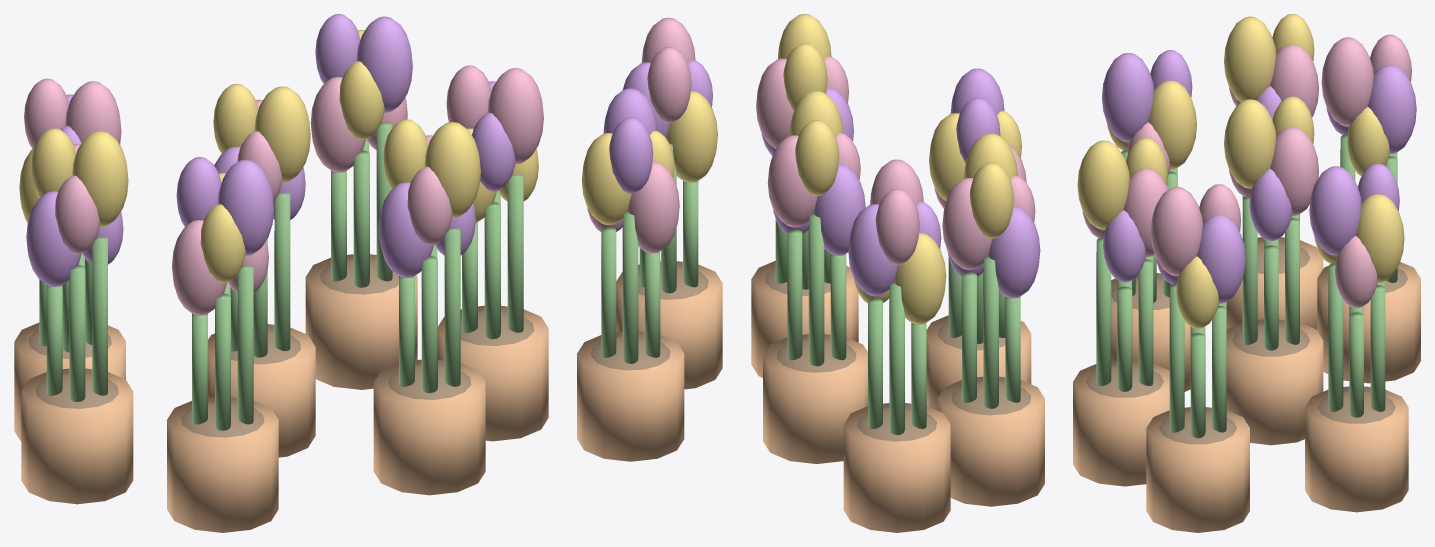
Rendered from cozy_flower_cluster_A.glb.
The picture shows the model from 3 angles, left to right: view 1: azimuth 30°, elevation 25°; view 2: azimuth 150°, elevation 25°; view 3: azimuth 270°, elevation 25°; orthographic projection. The views are drawn at different scales.
Visible parts, largest first — view 1: Pot6, Pot3, Pot4, Pot1, Pot5, Pot0, Fl0_5, Fl3_5, Fl4_5, Fl6_5, Fl1_5, Fl5_5 (+49 smaller); view 2: Pot2, Pot1, Pot6, Pot0, Pot5, Pot3, Fl6_3, Fl1_3, Fl2_3, Fl5_3, Pot4, Fl0_3 (+50 smaller); view 3: Pot1, Pot5, Pot0, Pot3, Pot2, Fl1_5, Fl2_5, Fl3_5, Fl0_5, Fl5_5, Fl4_5, Fl6_5 (+41 smaller).
Boxes of the visible parts, x1,y1,x2,y2 form: Pot6: (21, 368, 133, 504); Pot3: (373, 359, 485, 495); Pot4: (167, 397, 278, 532); Pot1: (305, 254, 417, 389); Pot5: (438, 305, 548, 441); Pot0: (208, 324, 315, 457); Fl0_5: (254, 86, 310, 182); Fl3_5: (424, 122, 480, 218); Fl4_5: (217, 159, 273, 255); Fl6_5: (72, 131, 128, 227); Fl1_5: (356, 16, 412, 112); Fl5_5: (487, 68, 543, 164); Pot2: (843, 403, 950, 532); Pot1: (577, 331, 684, 461); Pot6: (937, 376, 1044, 506); Pot0: (763, 334, 867, 463); Pot5: (616, 261, 722, 389); Pot3: (751, 261, 858, 377); Fl6_3: (988, 206, 1040, 298); Fl1_3: (627, 162, 679, 253); Fl2_3: (894, 233, 946, 324); Fl5_3: (666, 91, 717, 182); Pot4: (926, 315, 1031, 410); Fl0_3: (813, 164, 865, 255); Pot1: (1305, 386, 1408, 512); Pot5: (1146, 407, 1249, 532); Pot0: (1226, 319, 1323, 445); Pot3: (1073, 360, 1169, 486); Pot2: (1317, 262, 1420, 383); Fl1_5: (1309, 166, 1361, 255); Fl2_5: (1321, 37, 1373, 126); Fl3_5: (1077, 140, 1129, 229); Fl0_5: (1224, 99, 1276, 188); Fl5_5: (1150, 187, 1202, 275); Fl4_5: (1102, 53, 1154, 141); Fl6_5: (1224, 16, 1276, 102).
Bounding box in the file's own units: 0.83 × 0.5933 × 0.57.
